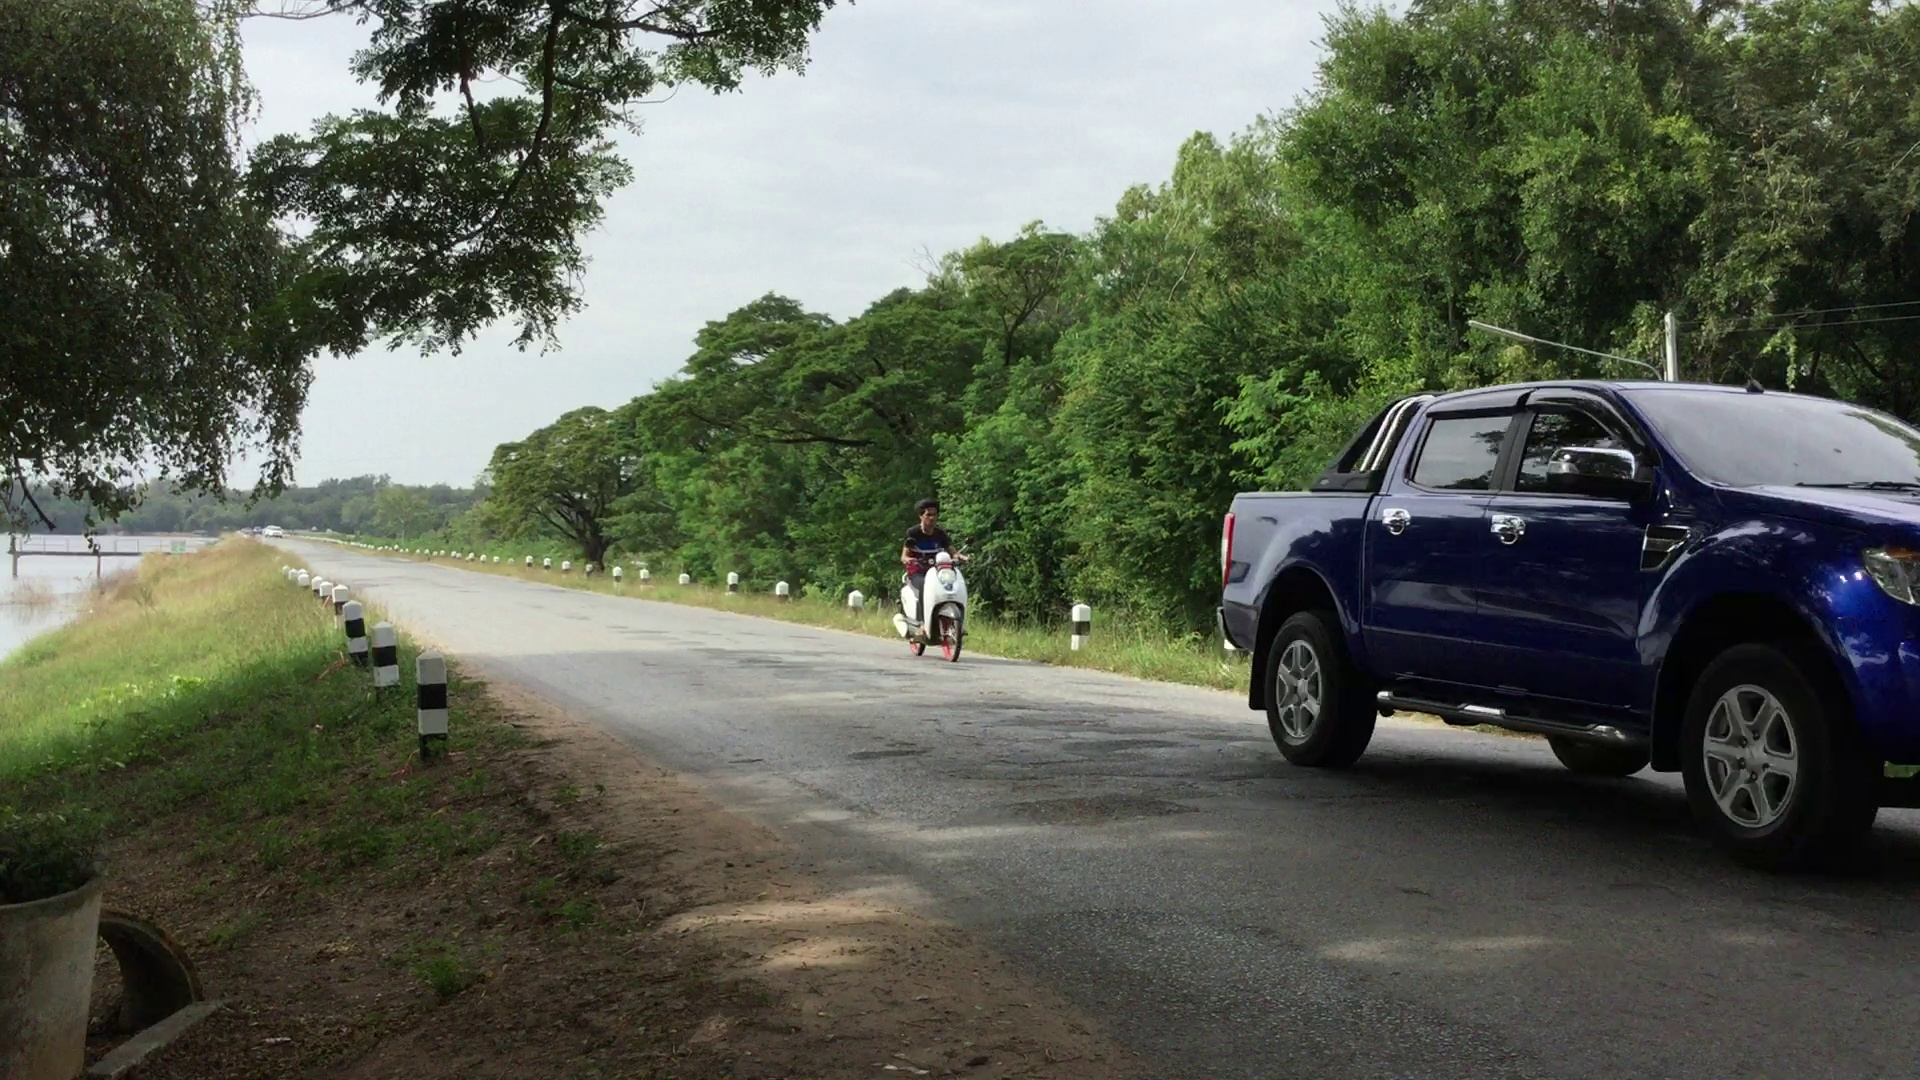car: (1217, 384, 1920, 844)
person: (909, 499, 971, 660)
